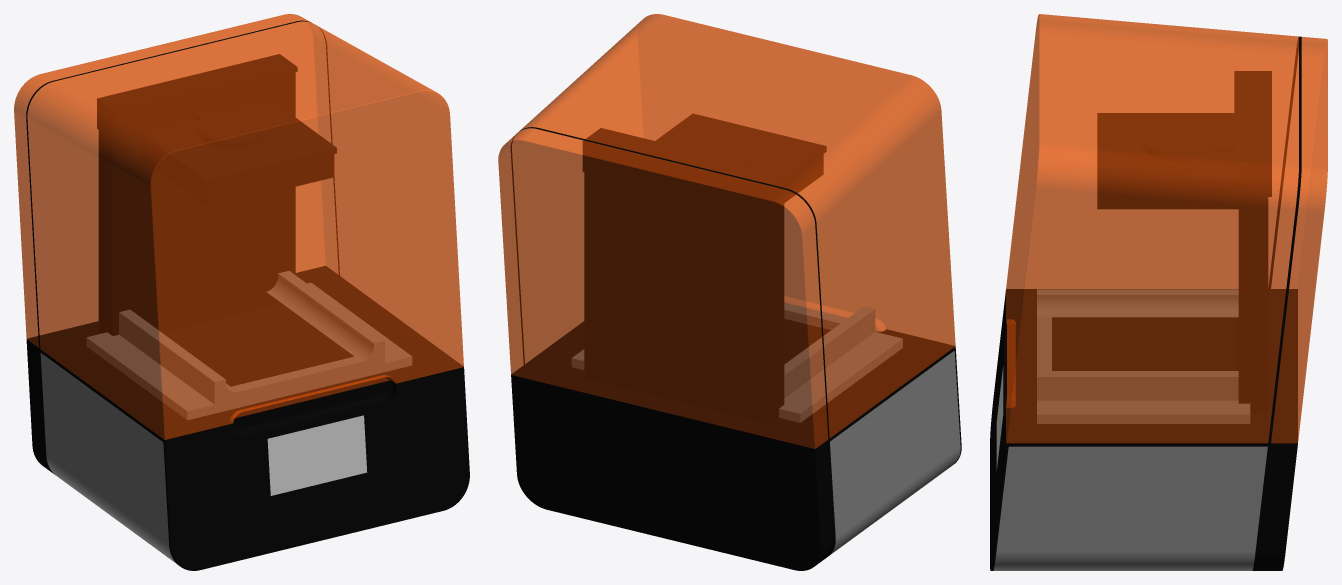
3 renders of one model, left to right at view 1: azimuth 30°, elevation 25°; view 2: azimuth 150°, elevation 25°; view 3: azimuth 270°, elevation 25°, orthographic. The views are drawn at different scales.
Parts seen in each view (by area): view 1: Object_8_Orange Reflective_2_0, Object_7_Black Reflective_3_0, Object_3_Black Reflective_0, Object_6_Orange Reflective_0, Object_15_Grey Reflective_8_0, Object_1_Grey Reflective_0, Object_9_Blue Reflective_0, Object_4_Grey Reflective_3_0, Object_10_Black Reflective_4_0, Object_26_Black Reflective_5_0, Object_25_Grey Reflective_18_0, Object_5_Black Reflective_2_0; view 2: Object_8_Orange Reflective_2_0, Object_6_Orange Reflective_0, Object_3_Black Reflective_0, Object_7_Black Reflective_3_0, Object_15_Grey Reflective_8_0, Object_1_Grey Reflective_0, Object_26_Black Reflective_5_0, Object_25_Grey Reflective_18_0, Object_5_Black Reflective_2_0; view 3: Object_8_Orange Reflective_2_0, Object_21_Grey Reflective_14_0, Object_7_Black Reflective_3_0, Object_3_Black Reflective_0, Object_1_Grey Reflective_0, Object_6_Orange Reflective_0, Object_26_Black Reflective_5_0, Object_24_Grey Reflective_17_0, Object_5_Black Reflective_2_0, Object_10_Black Reflective_4_0, Object_9_Blue Reflective_0.
Part boxes in pixels (<box>): Object_8_Orange Reflective_2_0: <box>27,21,463,439</box>; Object_7_Black Reflective_3_0: <box>26,283,469,570</box>; Object_3_Black Reflective_0: <box>97,54,336,335</box>; Object_6_Orange Reflective_0: <box>14,14,338,347</box>; Object_15_Grey Reflective_8_0: <box>40,353,168,545</box>; Object_1_Grey Reflective_0: <box>86,271,411,419</box>; Object_9_Blue Reflective_0: <box>267,415,367,495</box>; Object_4_Grey Reflective_3_0: <box>187,341,412,419</box>; Object_10_Black Reflective_4_0: <box>230,380,396,436</box>; Object_26_Black Reflective_5_0: <box>27,266,348,356</box>; Object_25_Grey Reflective_18_0: <box>46,456,169,558</box>; Object_5_Black Reflective_2_0: <box>26,20,339,348</box>; Object_8_Orange Reflective_2_0: <box>512,14,955,437</box>; Object_6_Orange Reflective_0: <box>498,128,828,448</box>; Object_3_Black Reflective_0: <box>582,113,826,423</box>; Object_7_Black Reflective_3_0: <box>511,319,961,570</box>; Object_15_Grey Reflective_8_0: <box>830,350,960,537</box>; Object_1_Grey Reflective_0: <box>572,303,902,422</box>; Object_26_Black Reflective_5_0: <box>511,357,838,448</box>; Object_25_Grey Reflective_18_0: <box>830,452,953,554</box>; Object_5_Black Reflective_2_0: <box>510,127,829,439</box>; Object_8_Orange Reflective_2_0: <box>1006,14,1298,443</box>; Object_21_Grey Reflective_14_0: <box>996,446,1267,551</box>; Object_7_Black Reflective_3_0: <box>990,289,1297,570</box>; Object_3_Black Reflective_0: <box>1097,71,1271,413</box>; Object_1_Grey Reflective_0: <box>1037,289,1250,423</box>; Object_6_Orange Reflective_0: <box>1271,37,1327,443</box>; Object_26_Black Reflective_5_0: <box>1247,289,1297,443</box>; Object_24_Grey Reflective_17_0: <box>1010,551,1255,570</box>; Object_5_Black Reflective_2_0: <box>1268,36,1301,443</box>; Object_10_Black Reflective_4_0: <box>1004,324,1015,418</box>; Object_9_Blue Reflective_0: <box>996,366,1003,470</box>.
Size of the model in its own units: 0.405 by 0.5299 by 0.3748.
